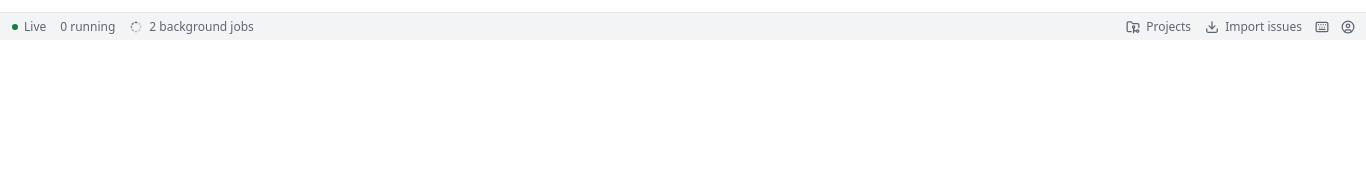
Test: the background jobs in the status bar › counts two jobs, and lists both with their task and time
The width and height of the screenshot is (1366, 172).
Click the button "2 background jobs": click(192, 26) [123,14,260,38]
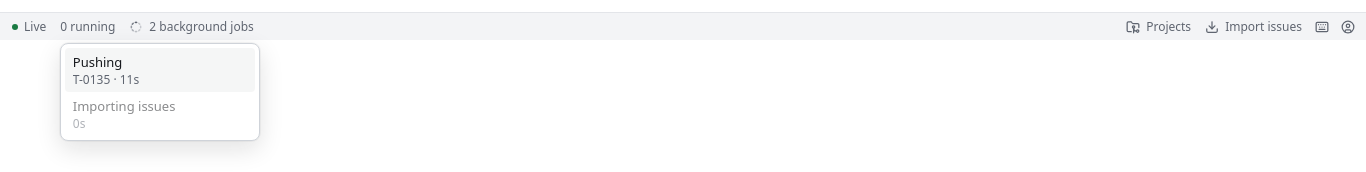
Expected: the menu item "Importing issues 0s" is disabled, [65,92,255,136]
